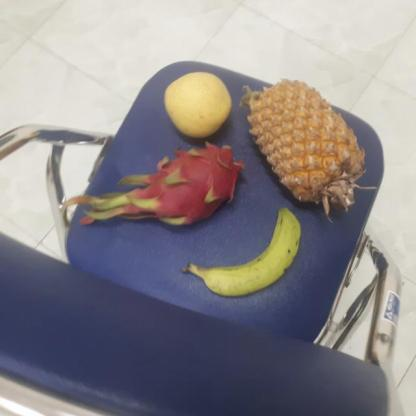banana: (181, 206, 300, 298)
pear: (161, 71, 234, 140)
pineapple: (236, 78, 365, 218)
pitaya: (141, 143, 240, 226)
